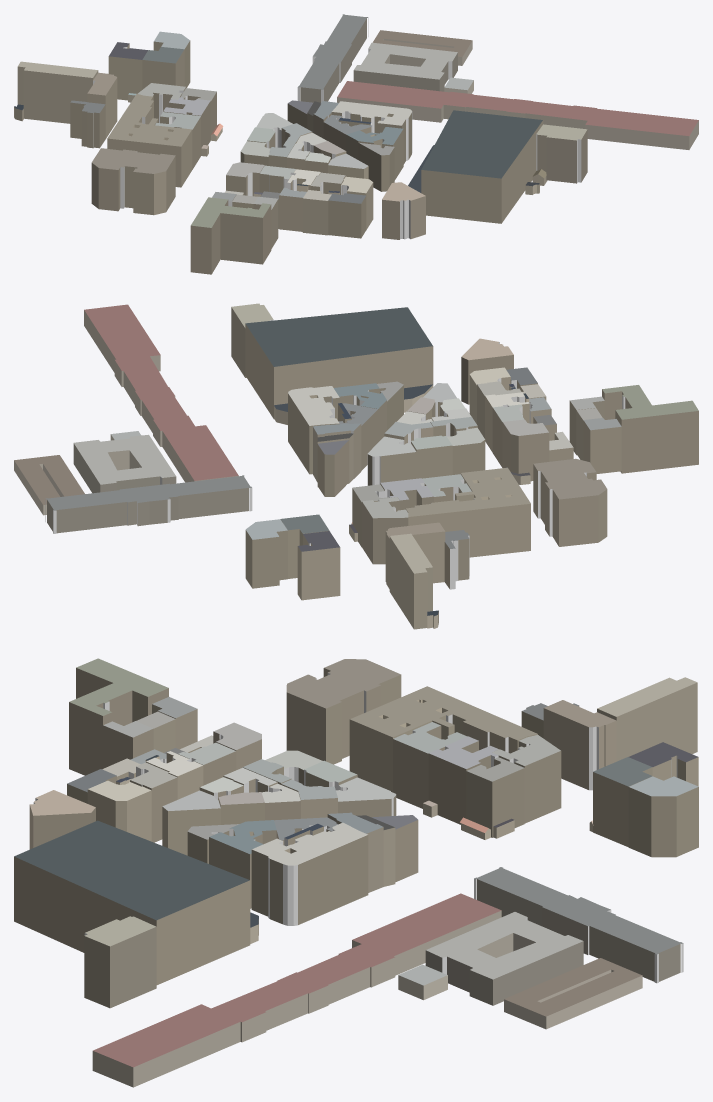
3 renders of one model, top to bottom at view 1: azimuth 30°, elevation 25°; view 2: azimuth 150°, elevation 25°; view 3: azimuth 270°, elevation 25°, orthographic. The views are drawn at different scales.
Visible parts, largest first — view 1: tuile; view 2: tuile; view 3: tuile.
Part boxes in pixels (x1,y1,x2,y2): tuile: (14,14,698,274); tuile: (14,303,698,629); tuile: (14,658,698,1087).
Bounding box in the file's own units: 350 × 33.07 × 274.
